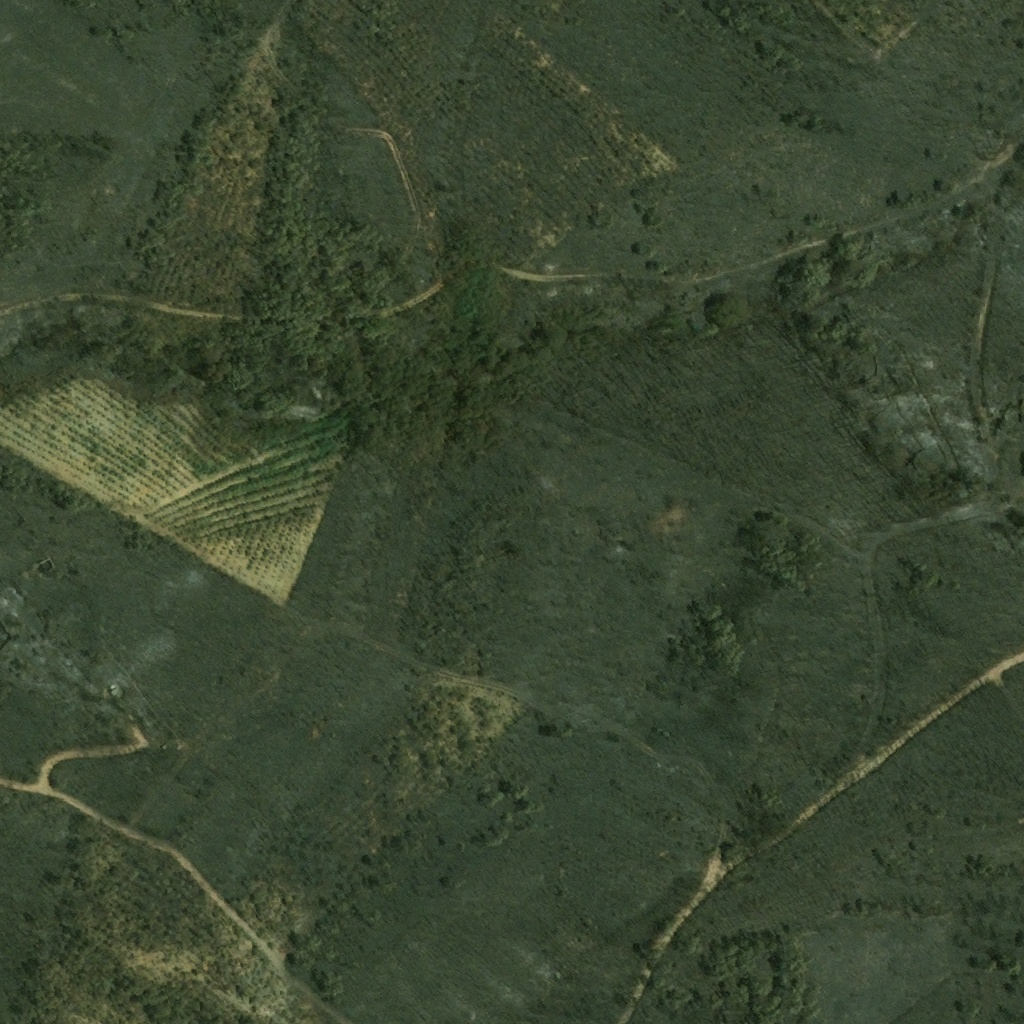0 no-damage: (106, 688, 120, 701)
